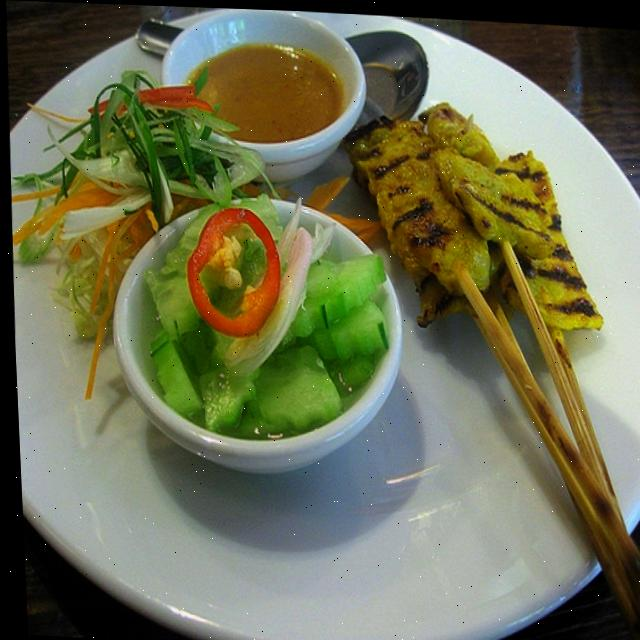牛肉菜式: (333, 22, 634, 640)
